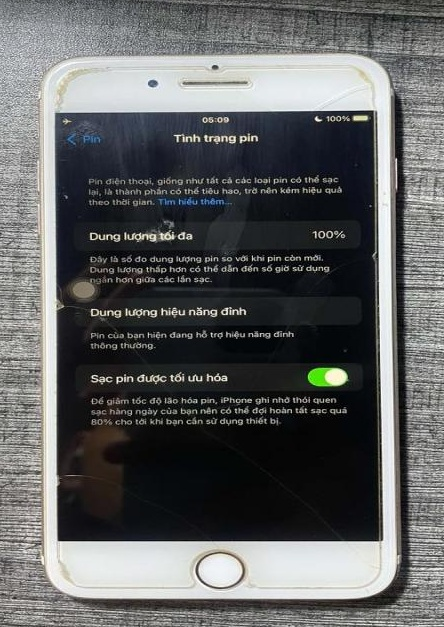physical_damage: (44, 280, 118, 328), (311, 67, 377, 111), (52, 64, 113, 111), (328, 520, 383, 571), (50, 471, 110, 488), (57, 559, 75, 586), (244, 578, 258, 590), (370, 250, 382, 262)
